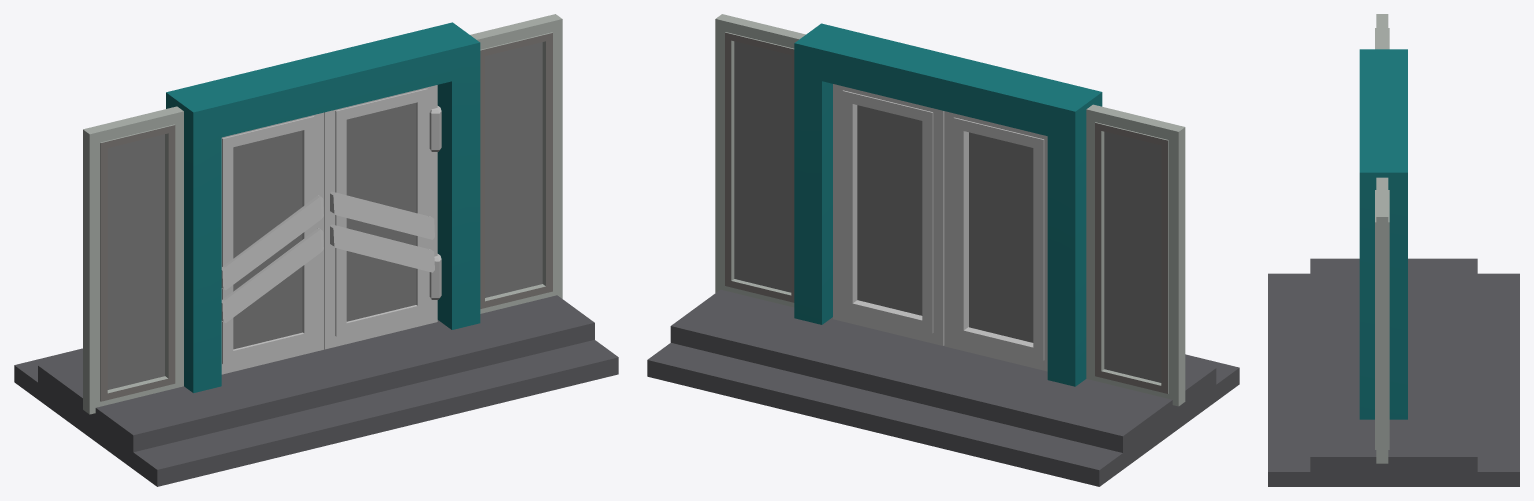
File: Base_Entrance.fbx
3 views of the same model, side by side, from view 1: azimuth 30°, elevation 25°; view 2: azimuth 150°, elevation 25°; view 3: azimuth 270°, elevation 25° (orthographic). The views are drawn at different scales.
Visible parts, largest first — view 1: Base_Entrance, Entrance_door_2, Entrance_door_1; view 2: Base_Entrance, Entrance_door_2, Entrance_door_1; view 3: Base_Entrance.
Boxes of the visible parts, box(x1,y1,x2,y2) form: Base_Entrance: box(14, 14, 618, 486); Entrance_door_2: box(324, 85, 441, 349); Entrance_door_1: box(221, 112, 324, 374); Base_Entrance: box(647, 14, 1239, 486); Entrance_door_2: box(833, 84, 944, 345); Entrance_door_1: box(944, 111, 1047, 371); Base_Entrance: box(1268, 14, 1519, 486).
Size of the model in its own units: 5.55 by 3.53 by 2.91.
